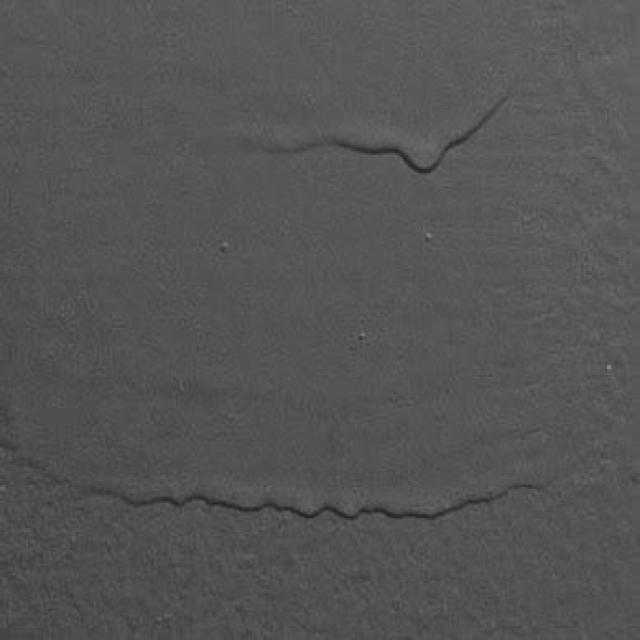paint drips: (55, 409, 587, 578), (243, 49, 547, 232)
